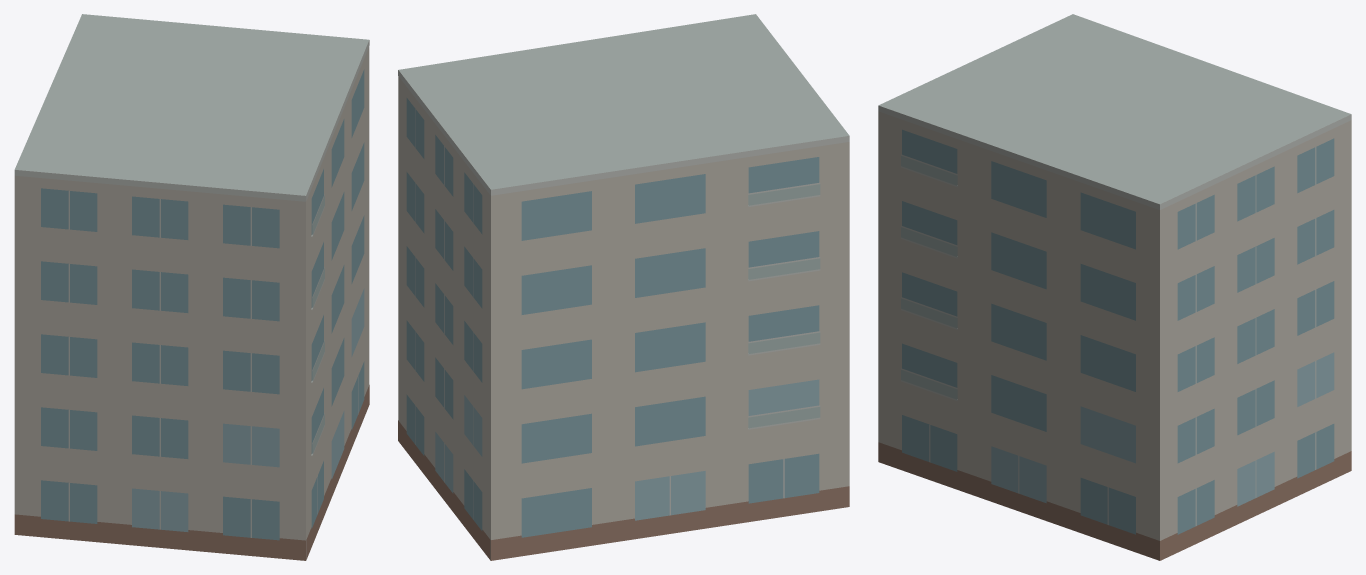
File: survey-upis-32500889.glb
3 renders of one model, left to right at view 1: azimuth 30°, elevation 25°; view 2: azimuth 150°, elevation 25°; view 3: azimuth 270°, elevation 25°, orthographic. The views are drawn at different scales.
Parts seen in each view (by area): view 1: survey-upis-32500889.tmp; view 2: survey-upis-32500889.tmp; view 3: survey-upis-32500889.tmp.
Boxes of the visible parts, x1=… form: survey-upis-32500889.tmp: x1=14, y1=14, x2=369, y2=560; survey-upis-32500889.tmp: x1=398, y1=14, x2=849, y2=560; survey-upis-32500889.tmp: x1=878, y1=14, x2=1351, y2=560.
Bounding box in the file's own units: 17.22 × 15.03 × 18.1.
